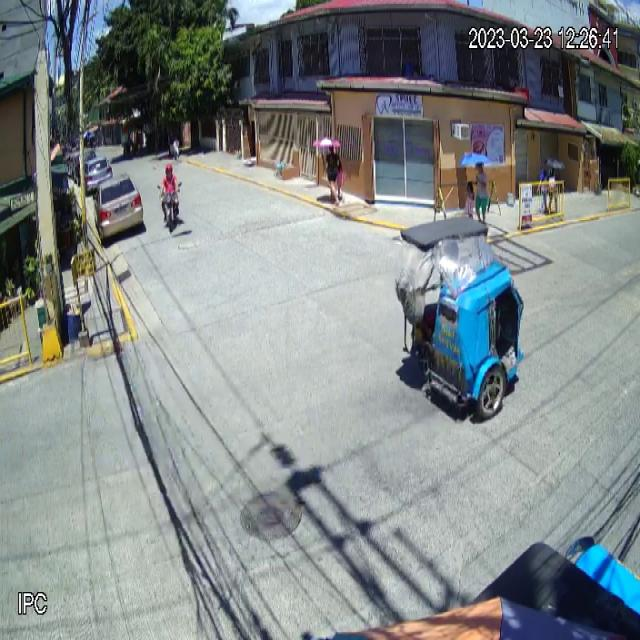Tricycle: (394, 215, 526, 422)
